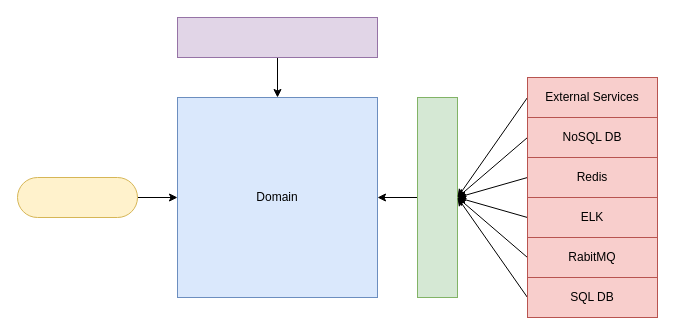
This 675x335 diagram has some shape labels left out. The shapes that lost their labels are listed below. From the top down, each one's box as (x1, y1, x2, y2) in pixels, then its label:
(176, 16, 378, 58): Helper
(16, 176, 138, 218): Resources
(416, 96, 458, 298): Infrastructure
